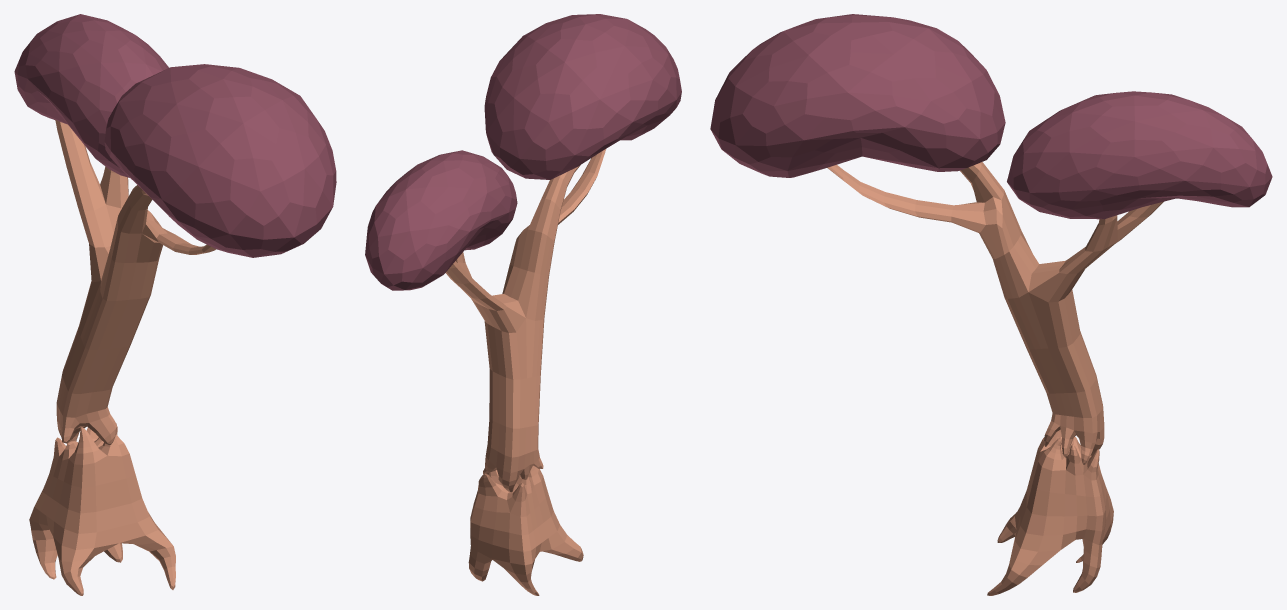
The model's file is Interact_Tree.fbx.
The picture shows the model from 3 angles, left to right: view 1: azimuth 30°, elevation 25°; view 2: azimuth 150°, elevation 25°; view 3: azimuth 270°, elevation 25°; orthographic projection. The views are drawn at different scales.
Visible parts, largest first — view 1: Resto, Base.001; view 2: Resto, Base.001; view 3: Resto, Base.001.
Part boxes in pixels (box(x1,y1,x2,y2)): Resto: box(14, 14, 336, 444); Base.001: box(29, 423, 175, 595); Resto: box(365, 14, 681, 492); Base.001: box(468, 465, 583, 595); Resto: box(710, 14, 1272, 464); Base.001: box(987, 429, 1113, 595).
Size of the model in its own units: 495 by 1550 by 1390.
